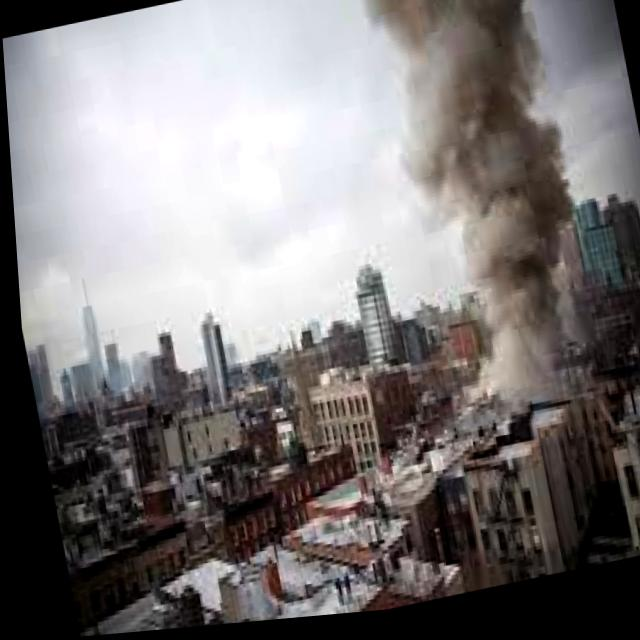no_helmet: (340, 0, 625, 451)
